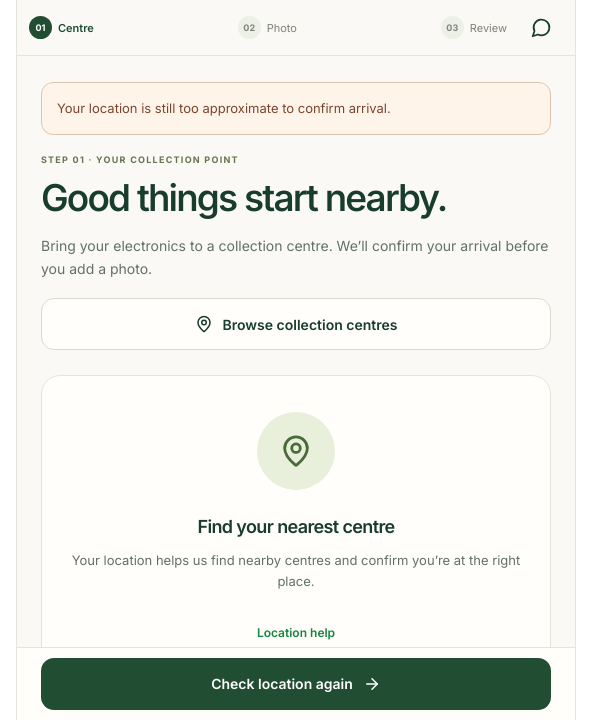
routes an accuracy error to visible location help instead of a granted-permission settings no-op
The width and height of the screenshot is (593, 720).
Click the button "Location help" at (296,633), box 257,611 -> 335,655
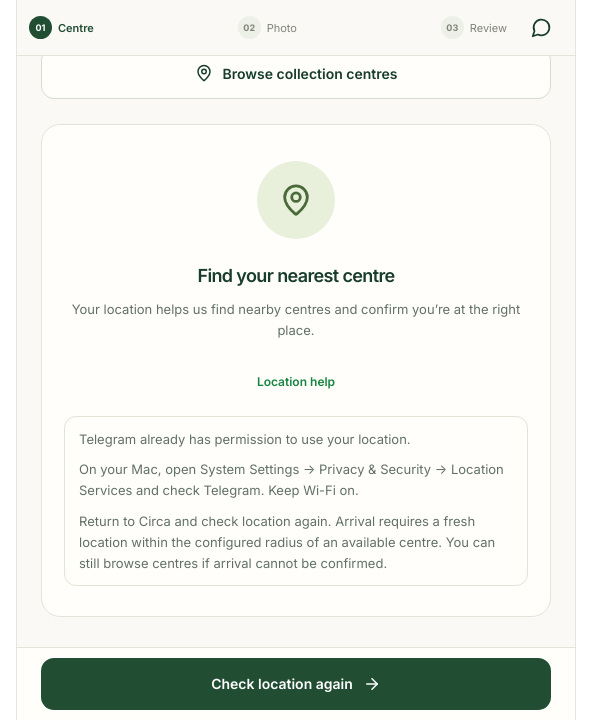
Now the text "System Settings → Privacy & Security → Location Services" is shown, box 79,461 -> 504,498
